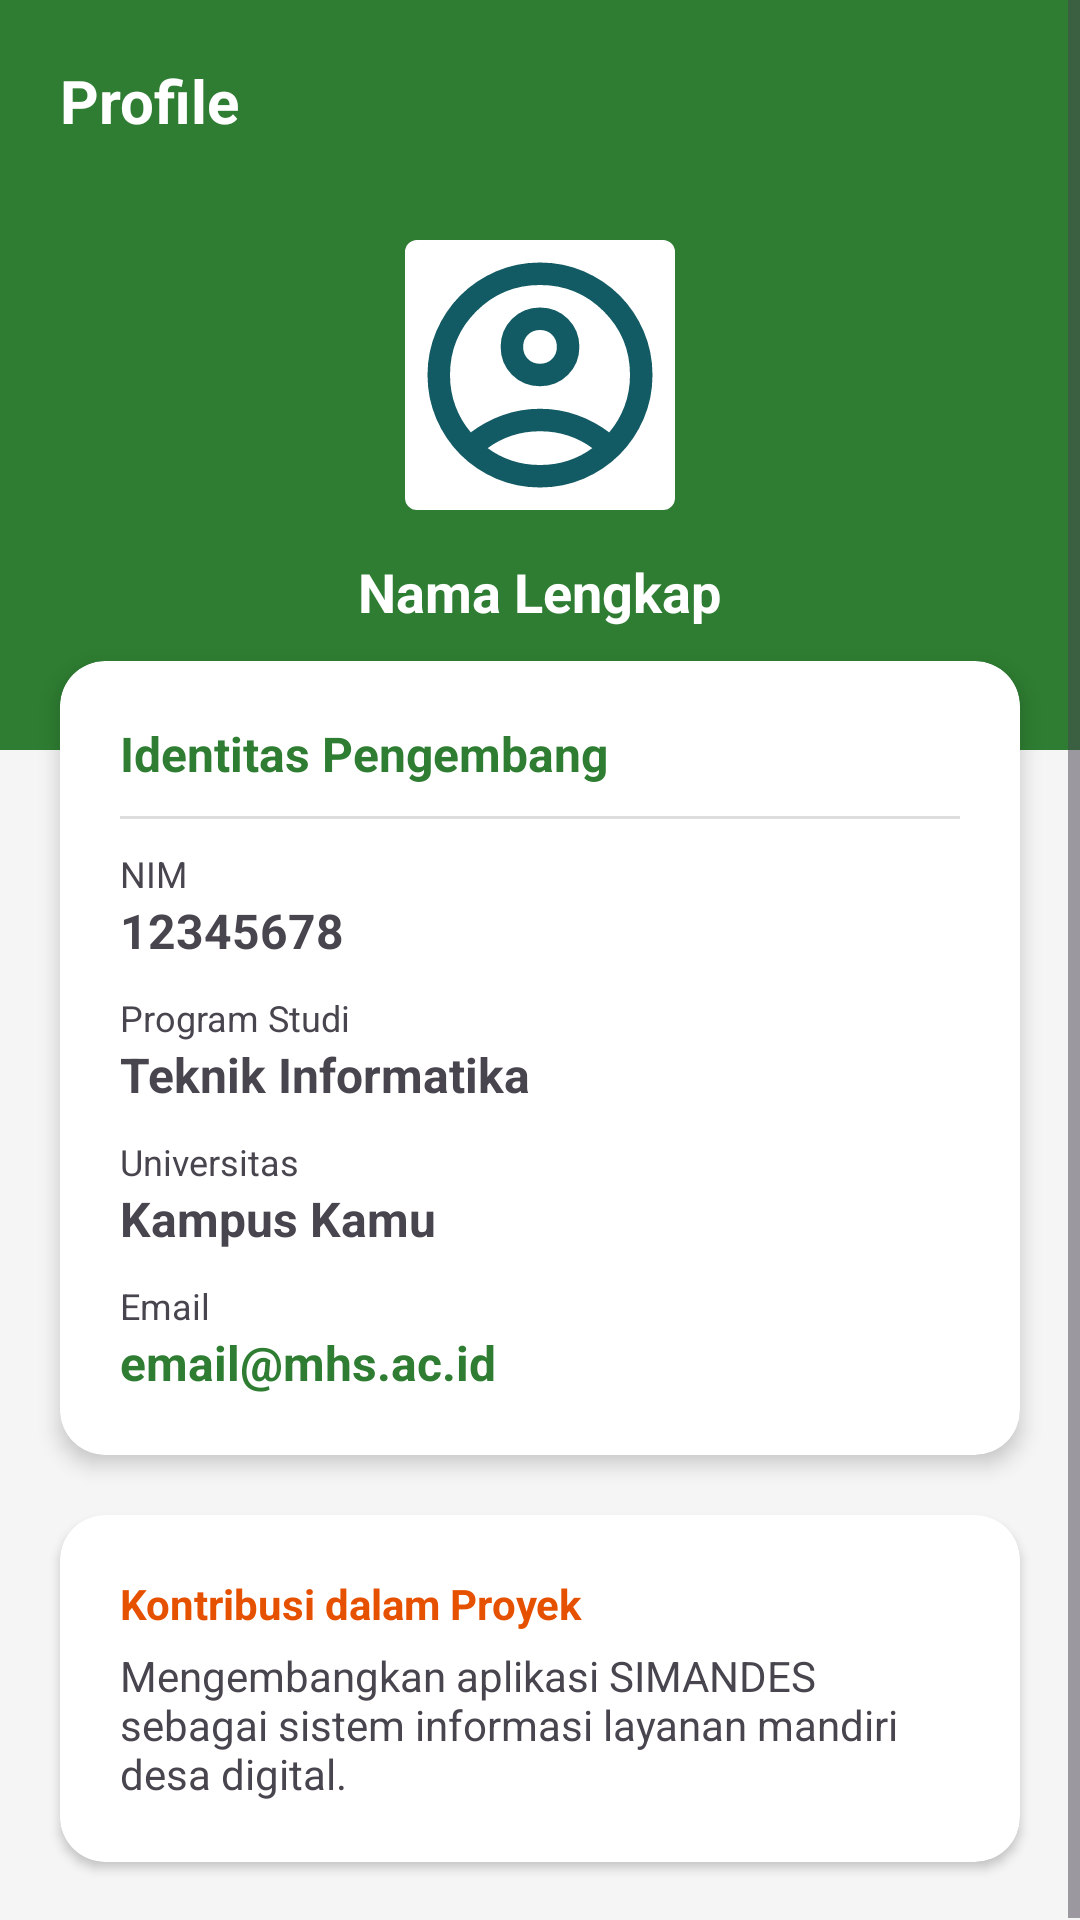

Locate icon controls on the screen. Image size 1080*1920, boxes as bbox=[x1, y1, x2, y2].
person: bbox=[405, 240, 675, 510]
